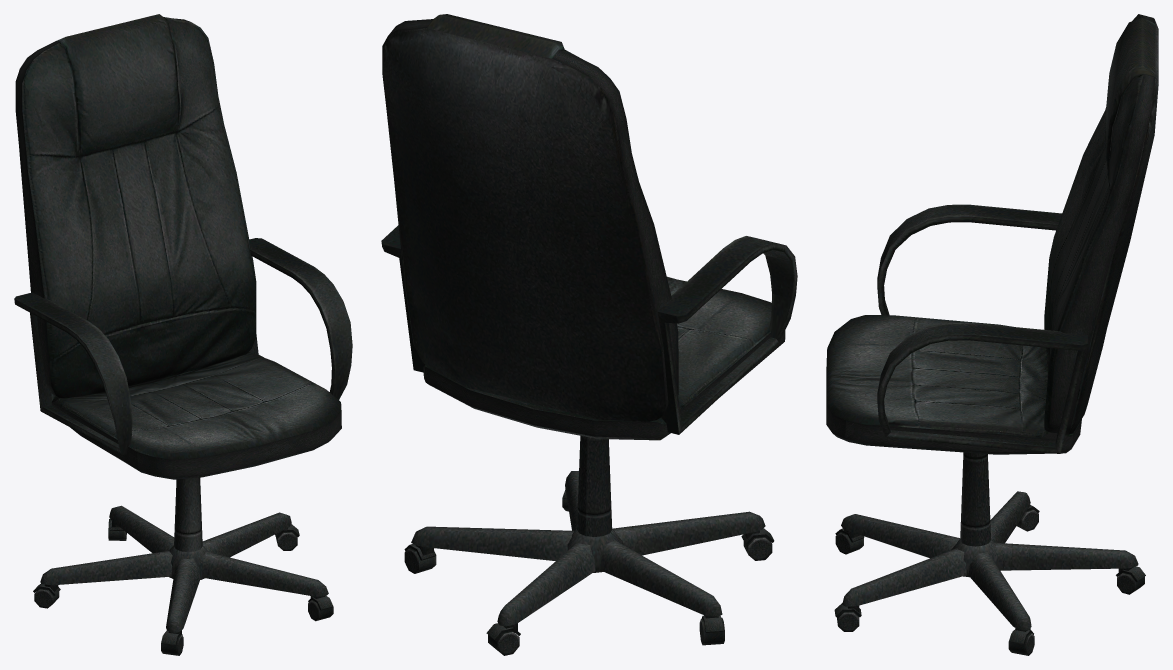
The model's file is office_chair.glb.
3 views of the same model, side by side, from view 1: azimuth 30°, elevation 25°; view 2: azimuth 150°, elevation 25°; view 3: azimuth 270°, elevation 25° (orthographic). The views are drawn at different scales.
Visible parts, largest first — view 1: Object_2; view 2: Object_2; view 3: Object_2.
Boxes of the visible parts, left/top/right/bottom form: Object_2: left=14, top=14, right=352, bottom=655; Object_2: left=381, top=14, right=797, bottom=655; Object_2: left=826, top=14, right=1158, bottom=655.
Size of the model in its own units: 0.6523 by 1.21 by 0.6656.
1 material, 1 textured.
